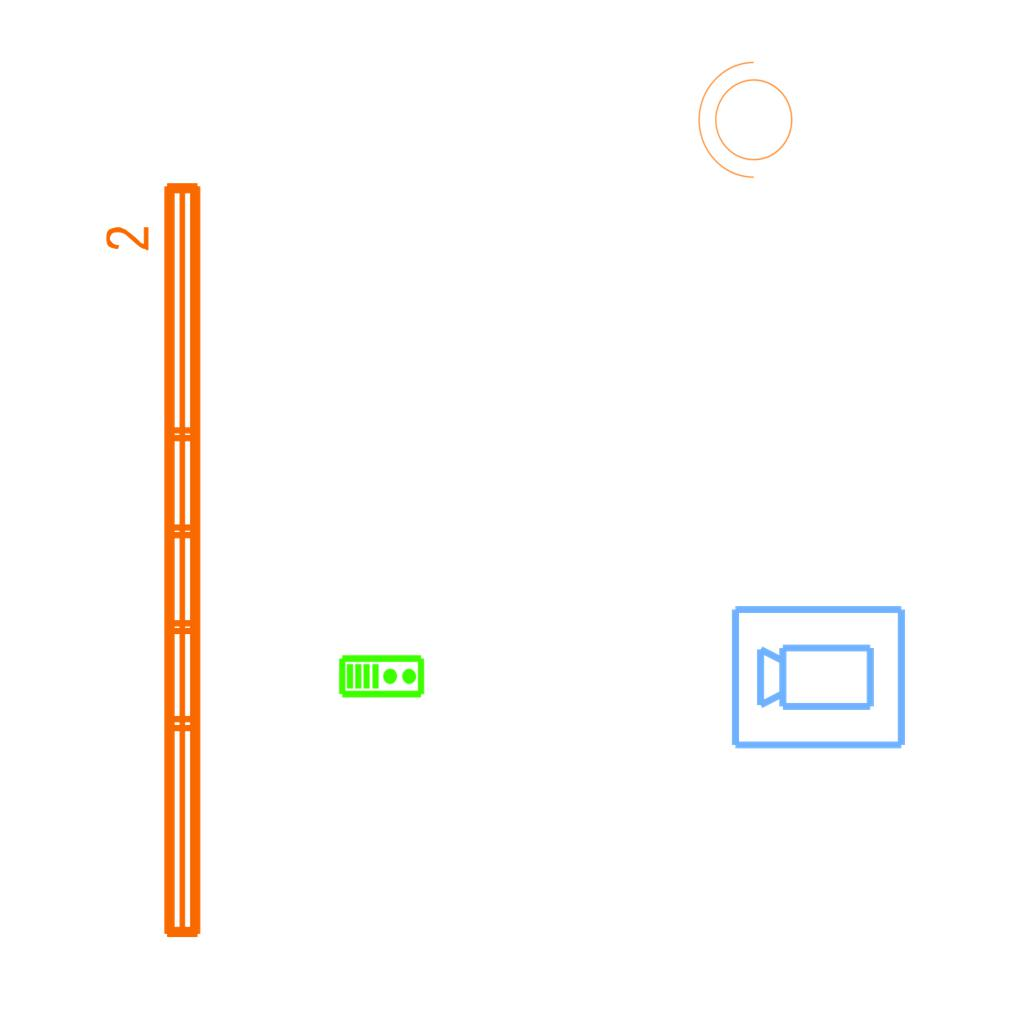Ambulanz_Pendelleuchte_LED: (101, 174, 213, 948)
Gegensprechanlage_mit_Video: (338, 652, 426, 699)
KFO_Kamera_mit_Festobjektiv: (728, 599, 910, 753)
Scheinwerfer_fuer_Alarmbeleuchtung: (693, 57, 805, 189)
